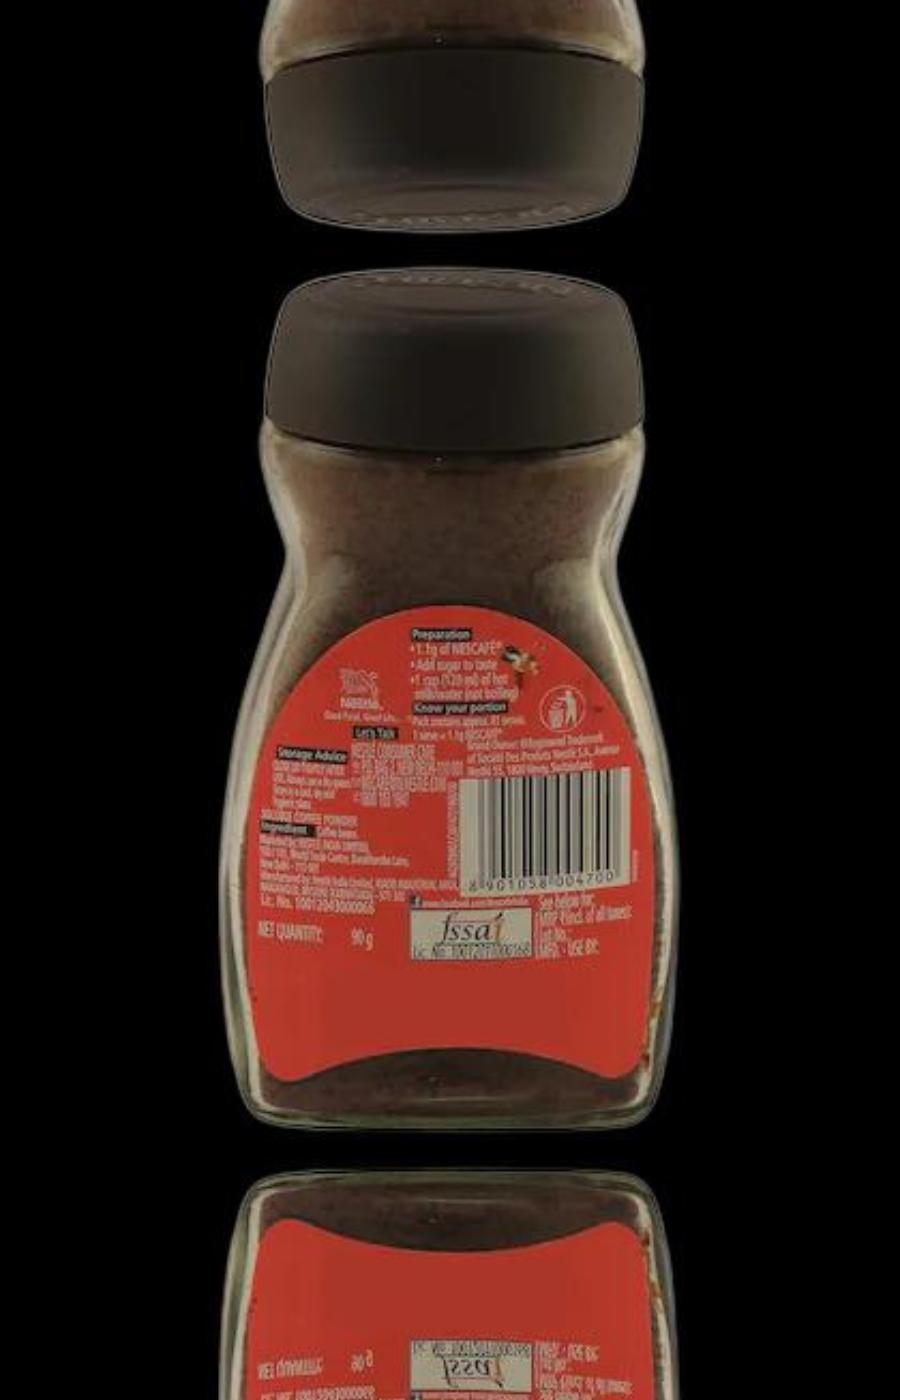Nescafe Classic Instant Coffee 90 g: (207, 257, 677, 1137), (207, 0, 676, 242), (207, 1163, 676, 1400)
